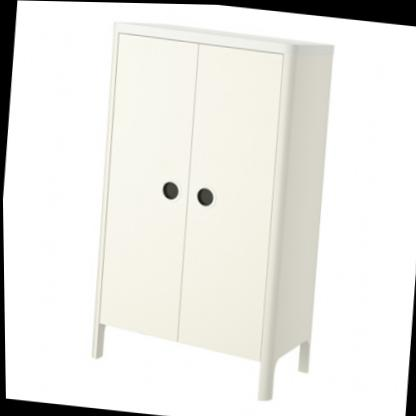Cabinet: (76, 12, 342, 407)
